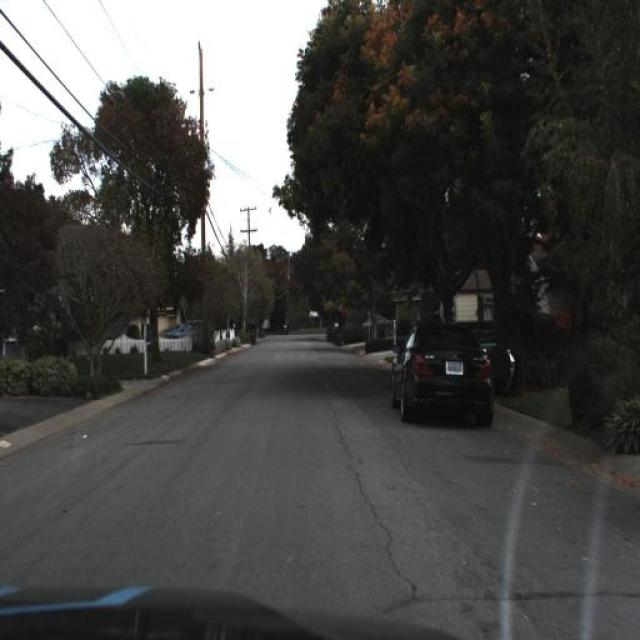car: (389, 317, 515, 428), (384, 316, 501, 434)
